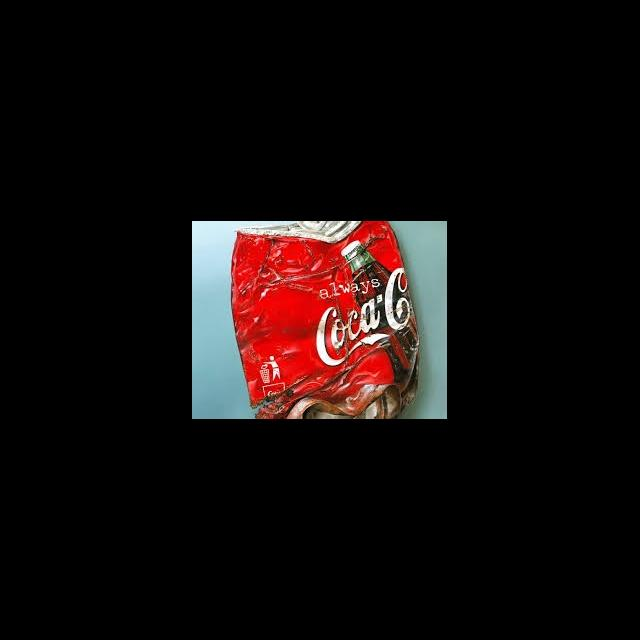metal: (230, 221, 420, 418)
